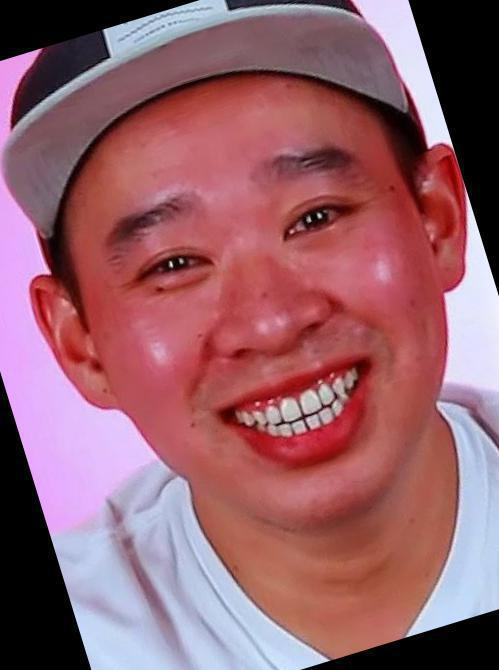Drunk: (92, 145, 439, 505)
